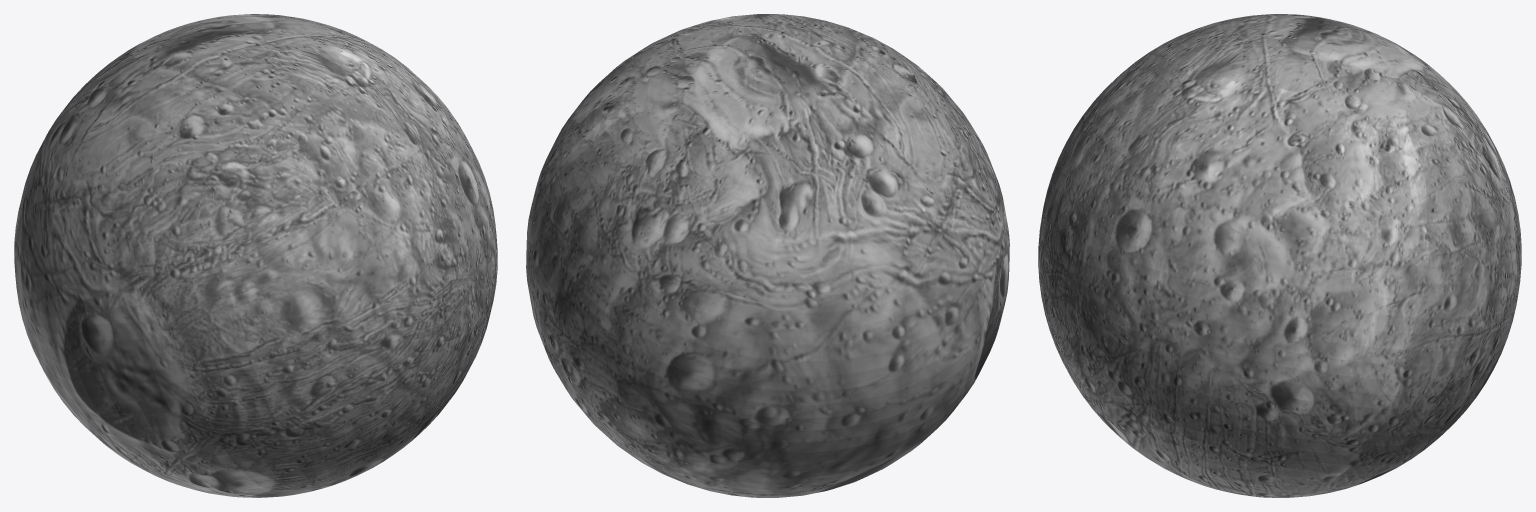
The model's file is oberon.obj.
The picture shows the model from 3 angles, left to right: view 1: azimuth 30°, elevation 25°; view 2: azimuth 150°, elevation 25°; view 3: azimuth 270°, elevation 25°; orthographic projection.
Parts seen in each view (by area): view 1: Plane; view 2: Plane; view 3: Plane.
Boxes of the visible parts, x1,y1,x2,y2 form: Plane: [14, 14, 497, 497]; Plane: [526, 14, 1009, 497]; Plane: [1038, 14, 1521, 497].
Bounding box in the file's own units: 2.61 × 2.61 × 2.61.
Materials: 1 (1 with a texture image).
